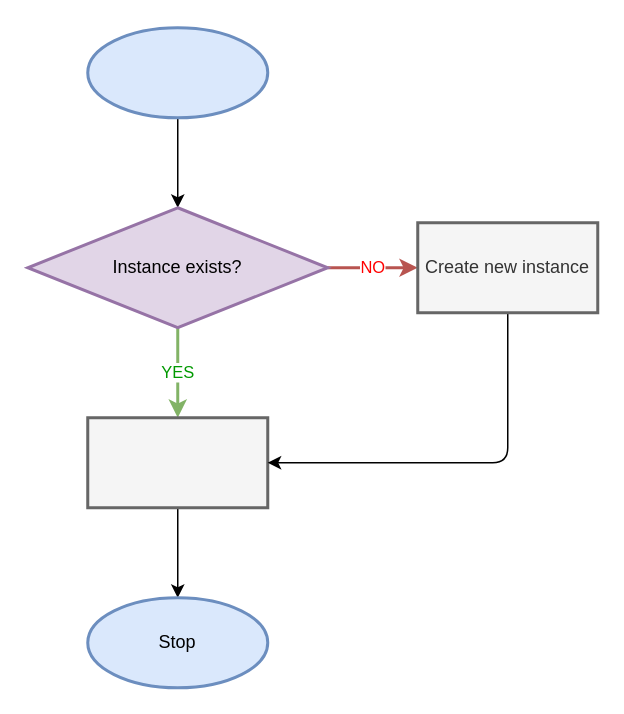
Some shapes in this 624 by 714 pixel diagram are drawn without their labels. The box of each missing label's shape, as (x1, y1, x2, y2) in pixels:
Get CoffeeMachine: (86, 26, 268, 118)
Return that instance: (86, 416, 268, 508)
